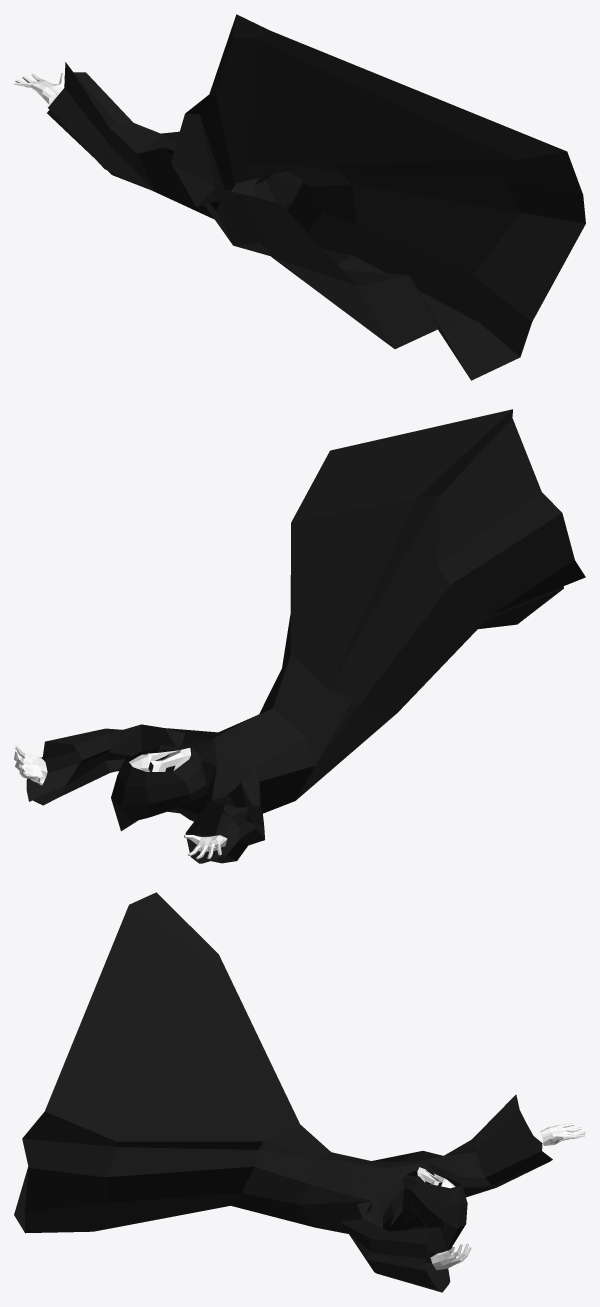
Rendered from ReaperDead(81).obj.
The picture shows the model from 3 angles, top to bottom: view 1: azimuth 30°, elevation 25°; view 2: azimuth 150°, elevation 25°; view 3: azimuth 270°, elevation 25°; orthographic projection. The views are drawn at different scales.
Parts seen in each view (by area): view 1: Plane003; view 2: Plane003; view 3: Plane003.
Part boxes in pixels (x1,y1,x2,y2): Plane003: [14, 14, 585, 380]; Plane003: [14, 409, 585, 863]; Plane003: [14, 892, 585, 1292].
Size of the model in its own units: 173 by 148 by 273.
